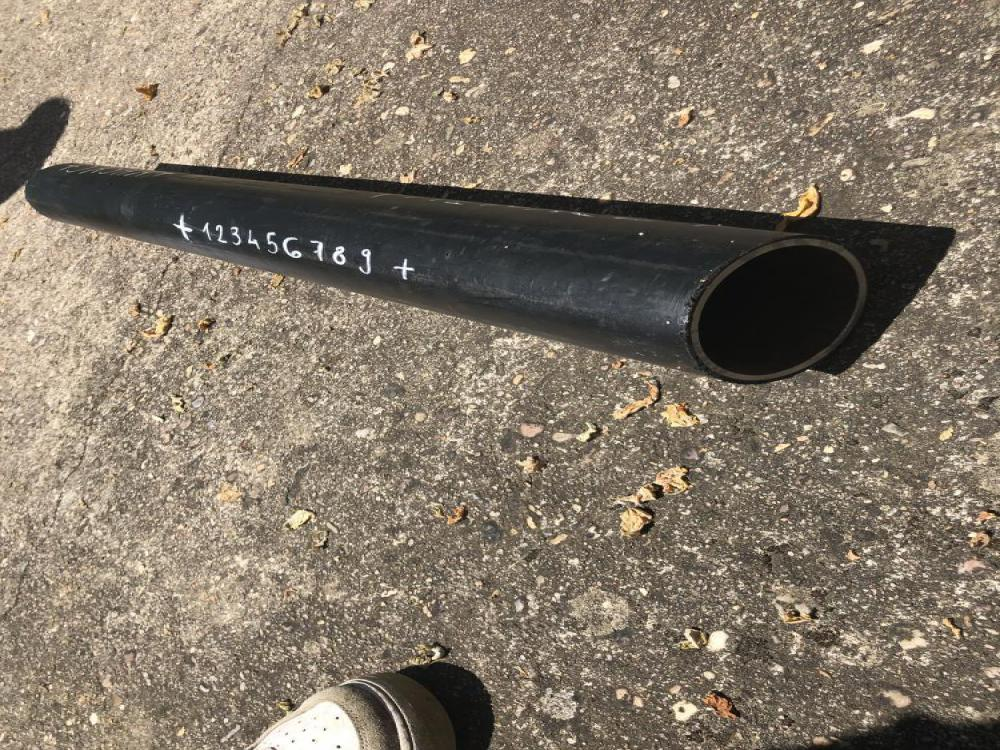+: (173, 215, 193, 240), (395, 258, 414, 279)
1: (202, 223, 212, 241)
2: (216, 224, 227, 244)
3: (230, 227, 242, 246)
4: (248, 230, 261, 250)
5: (266, 232, 278, 254)
6: (282, 237, 302, 259)
7: (310, 240, 324, 262)
8: (332, 246, 347, 265)
9: (358, 249, 372, 275)
